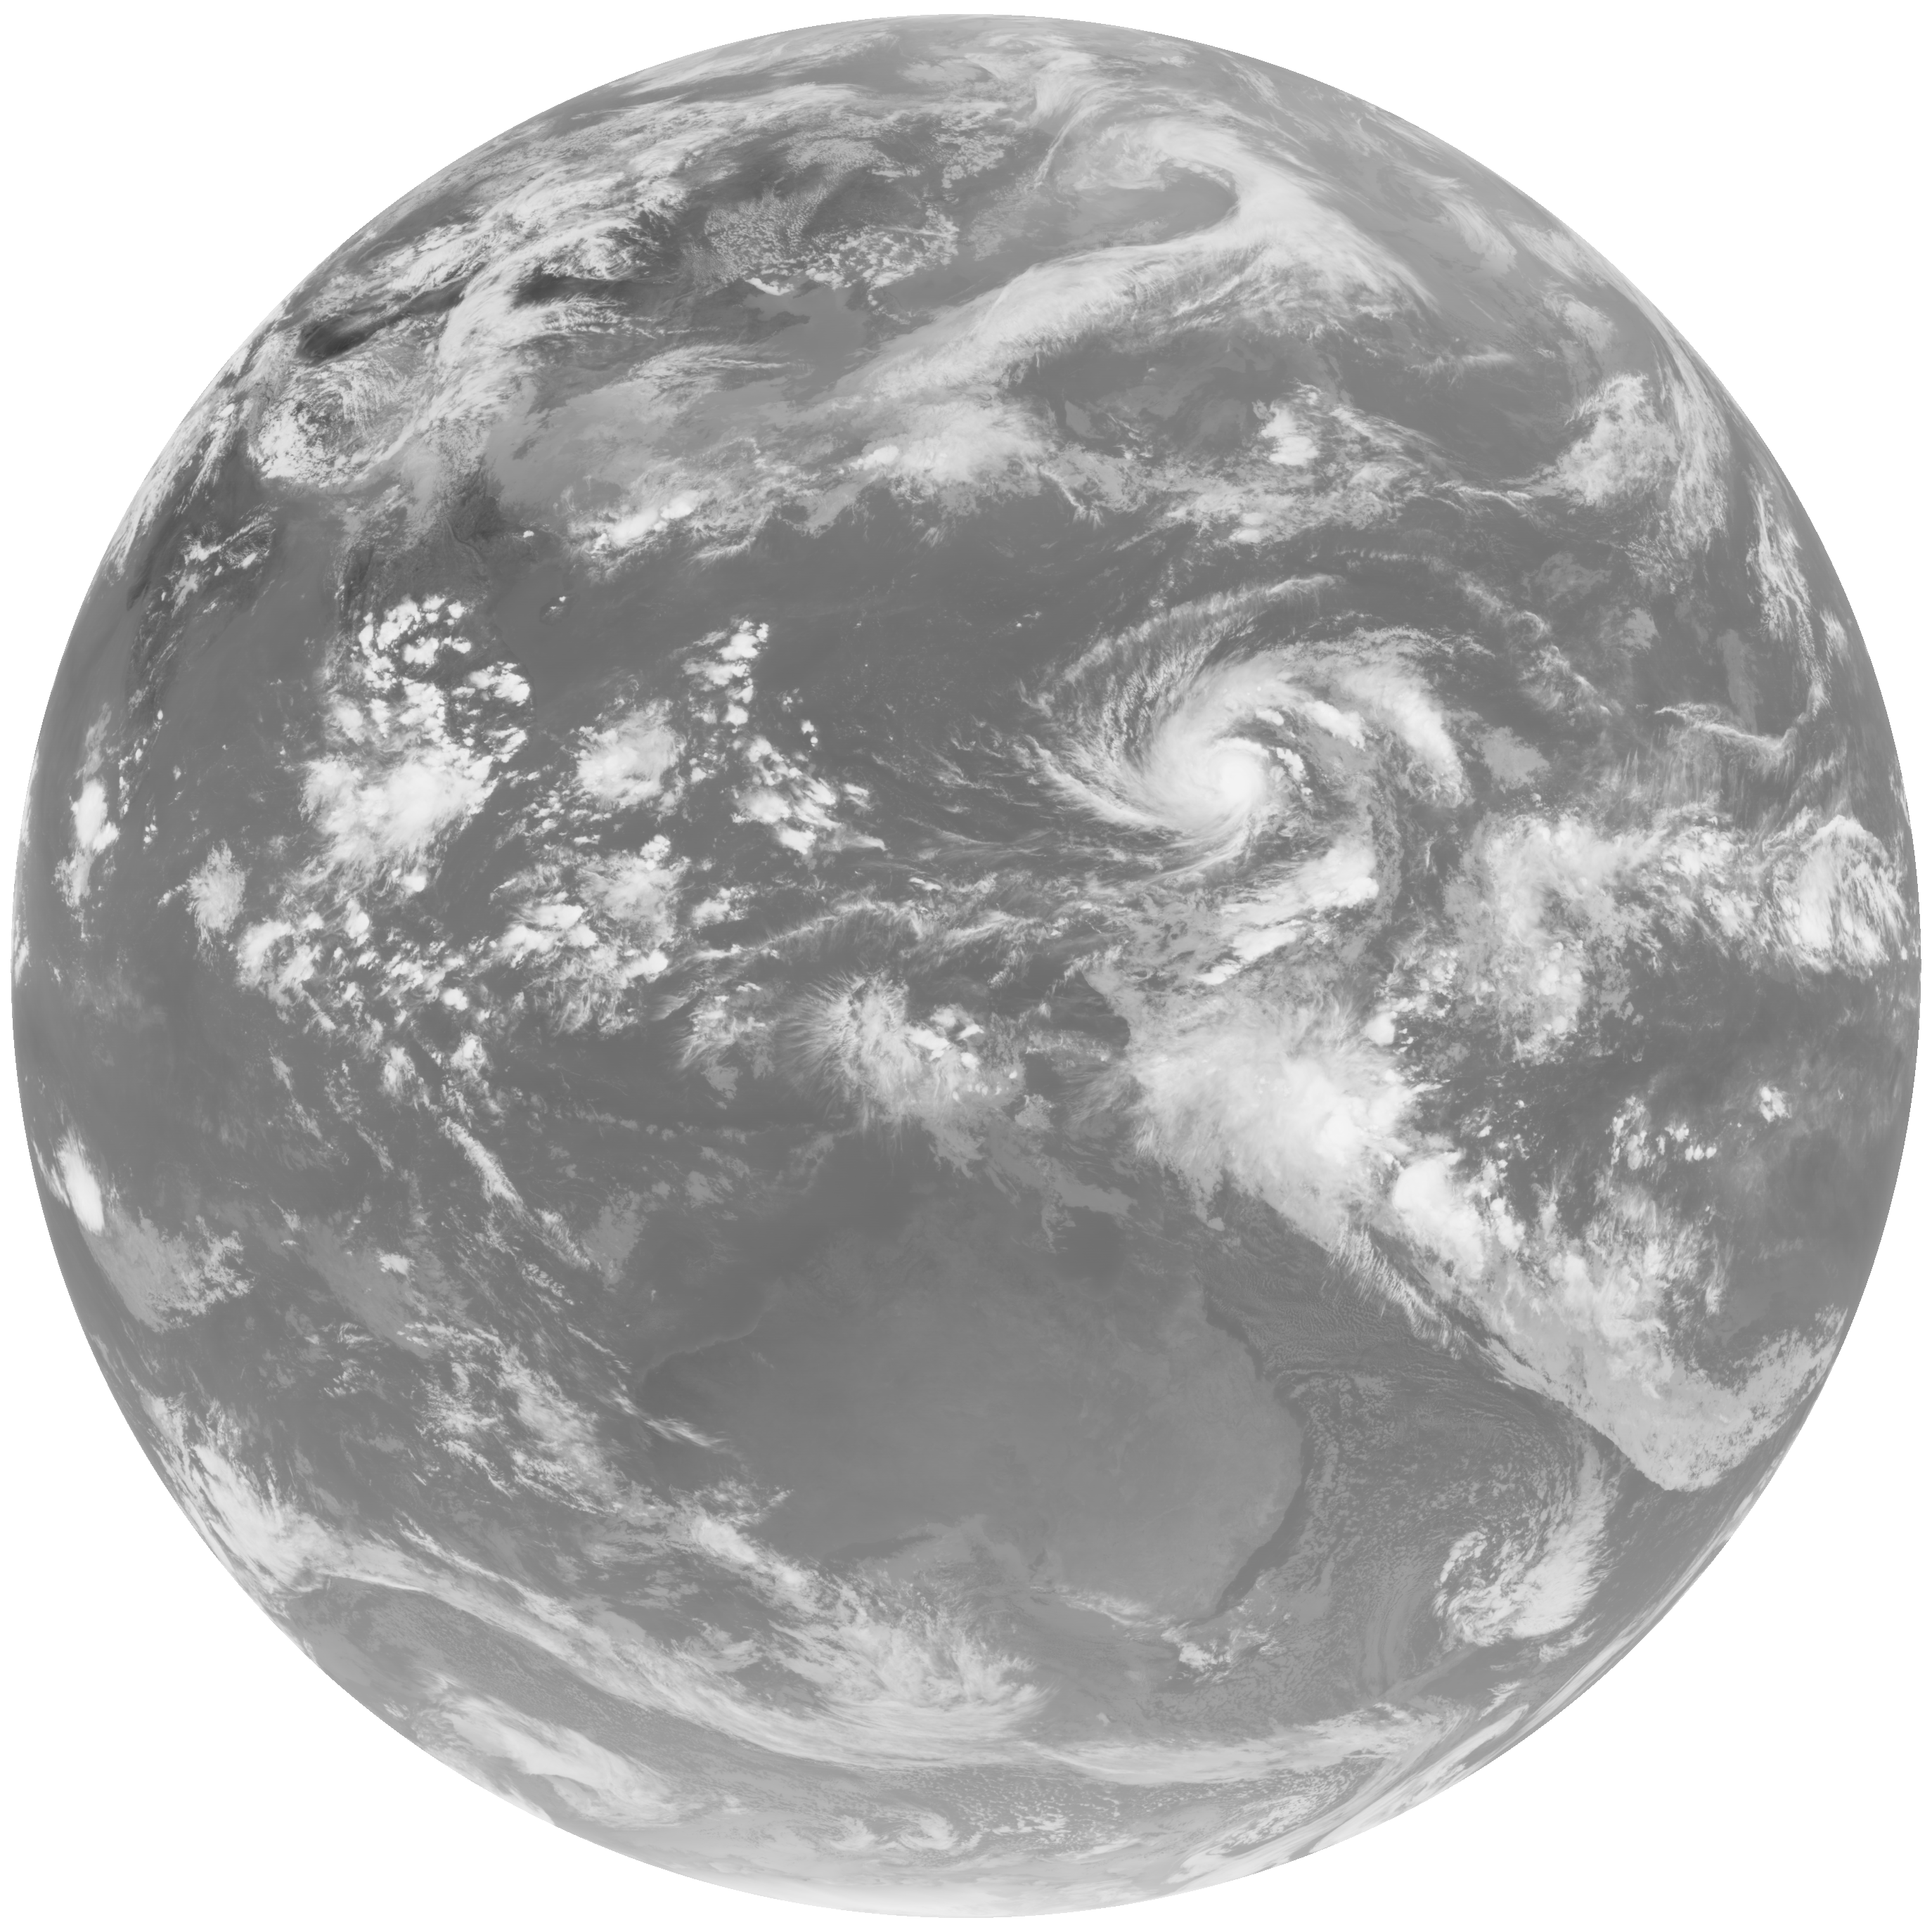typhoon: (955, 570, 1476, 980)
